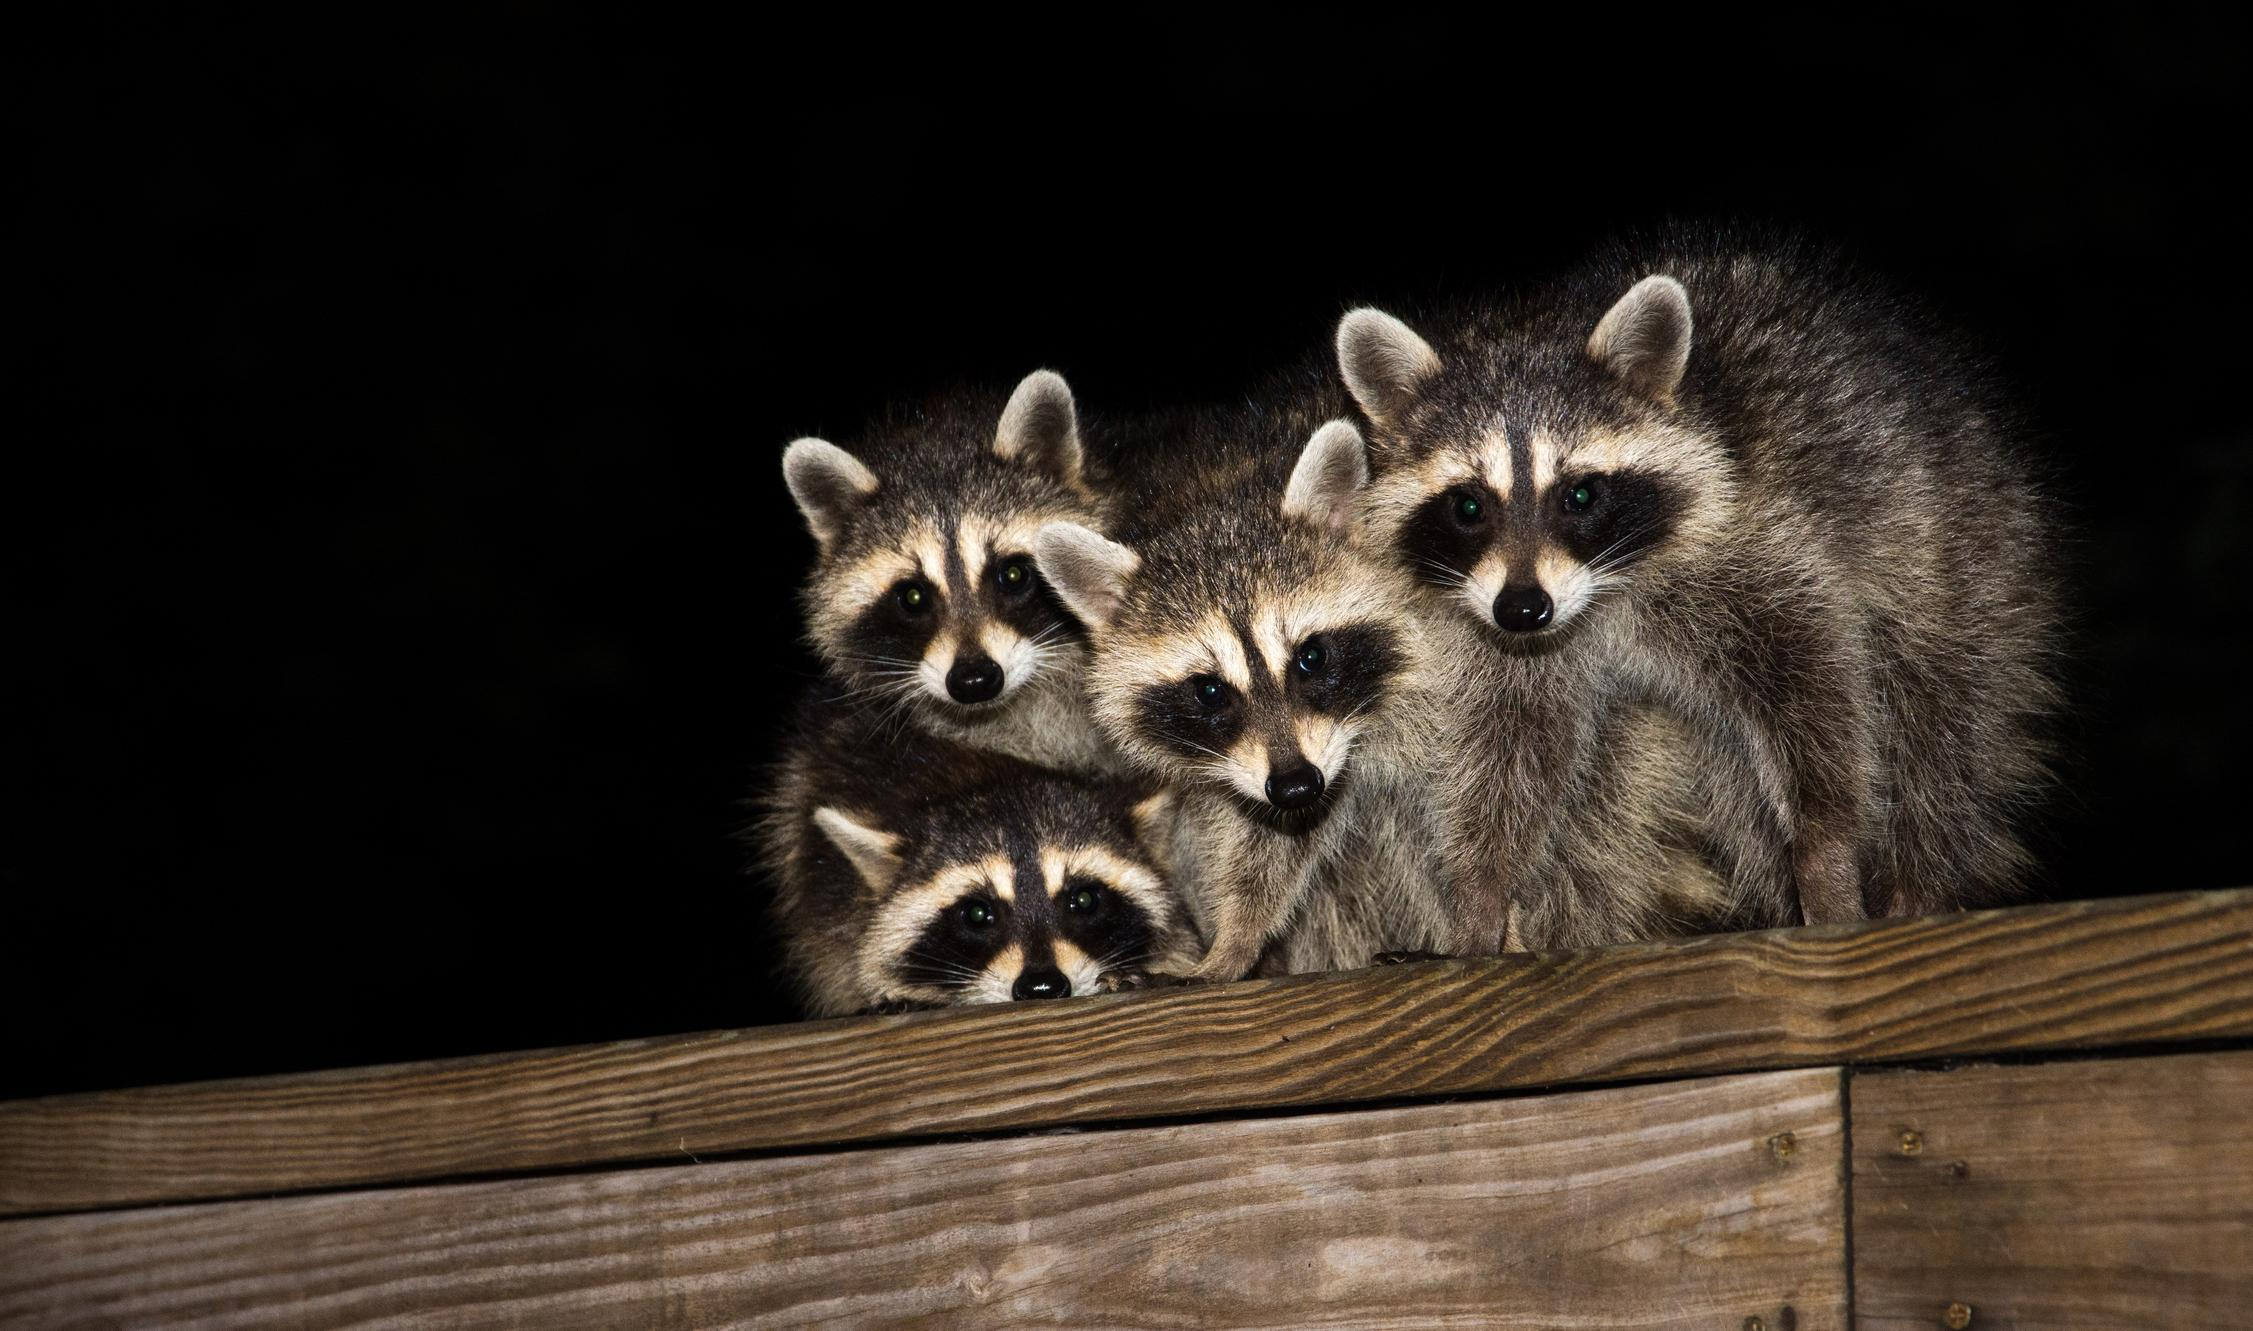raccoon: (1321, 268, 2072, 867), (1041, 425, 1421, 838), (757, 357, 1126, 765), (745, 730, 1171, 1017)
